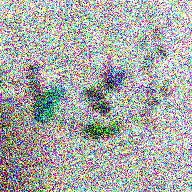러키펜정: (148, 105, 174, 124)
씨엠지세파클러캡슐: (106, 51, 128, 89)
에르도캡슐: (33, 85, 66, 124)
휴티렌정: (83, 120, 122, 138)
